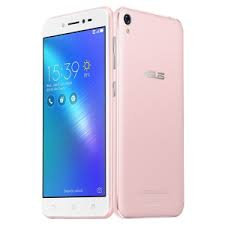asus: (109, 4, 187, 218), (39, 3, 114, 220)
